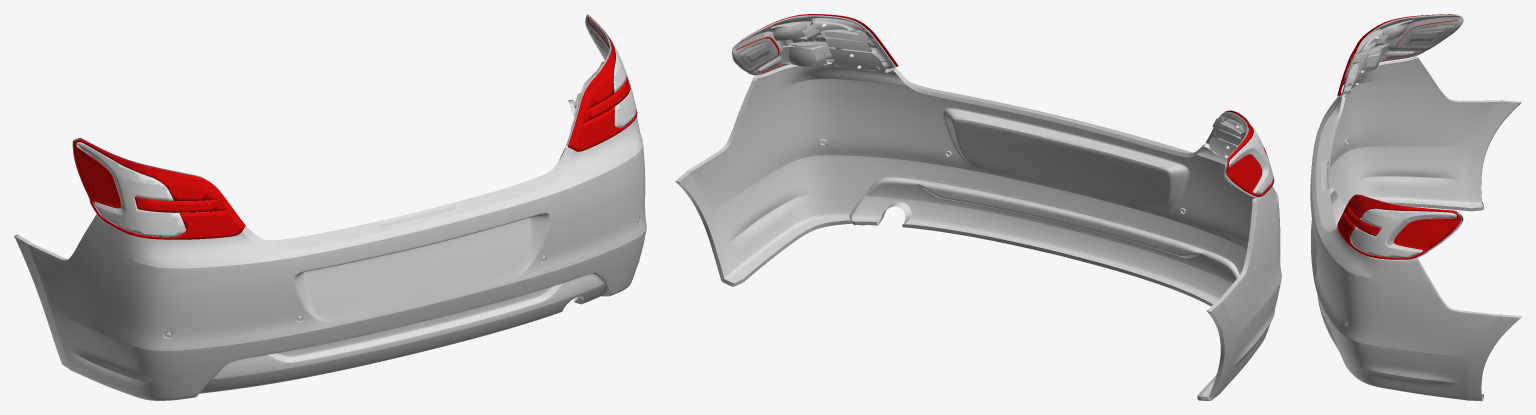
File: fullsize_bumperr.fbx
The picture shows the model from 3 angles, left to right: view 1: azimuth 30°, elevation 25°; view 2: azimuth 150°, elevation 25°; view 3: azimuth 270°, elevation 25°; orthographic projection. The views are drawn at different scales.
Visible parts, largest first — view 1: fullsize_bumper_R; view 2: fullsize_bumper_R; view 3: fullsize_bumper_R.
Part boxes in pixels (left/top/right/bottom): fullsize_bumper_R: left=14, top=14, right=646, bottom=400; fullsize_bumper_R: left=675, top=14, right=1281, bottom=400; fullsize_bumper_R: left=1310, top=14, right=1521, bottom=400.
Size of the model in its own units: 188 by 77.85 by 77.59.
